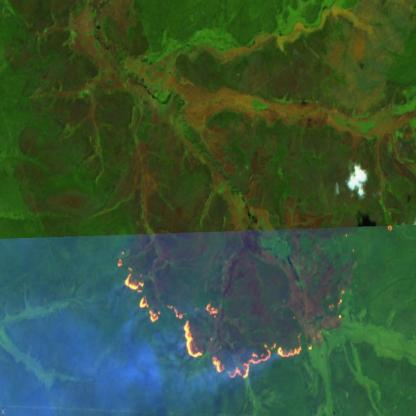fire: (110, 248, 318, 386)
